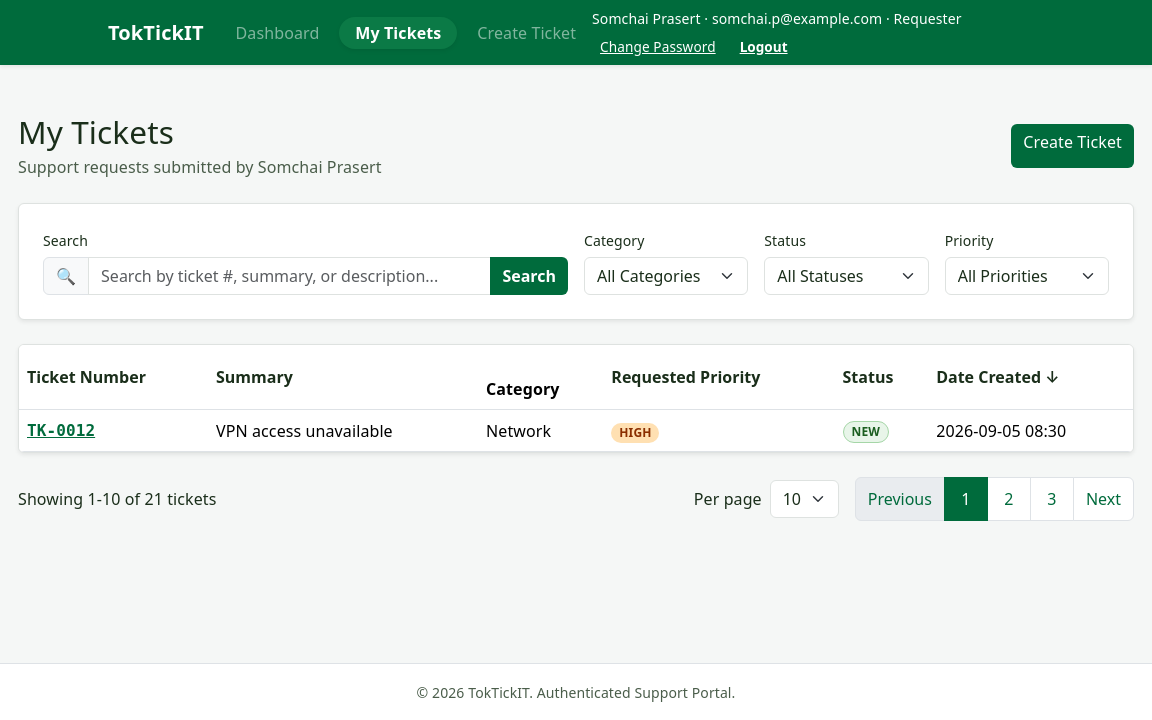
Test: My Tickets screen › moves to the last available page when the requested page disappears
Click the button "3" at (1052, 499), box [1030,477,1074,521]
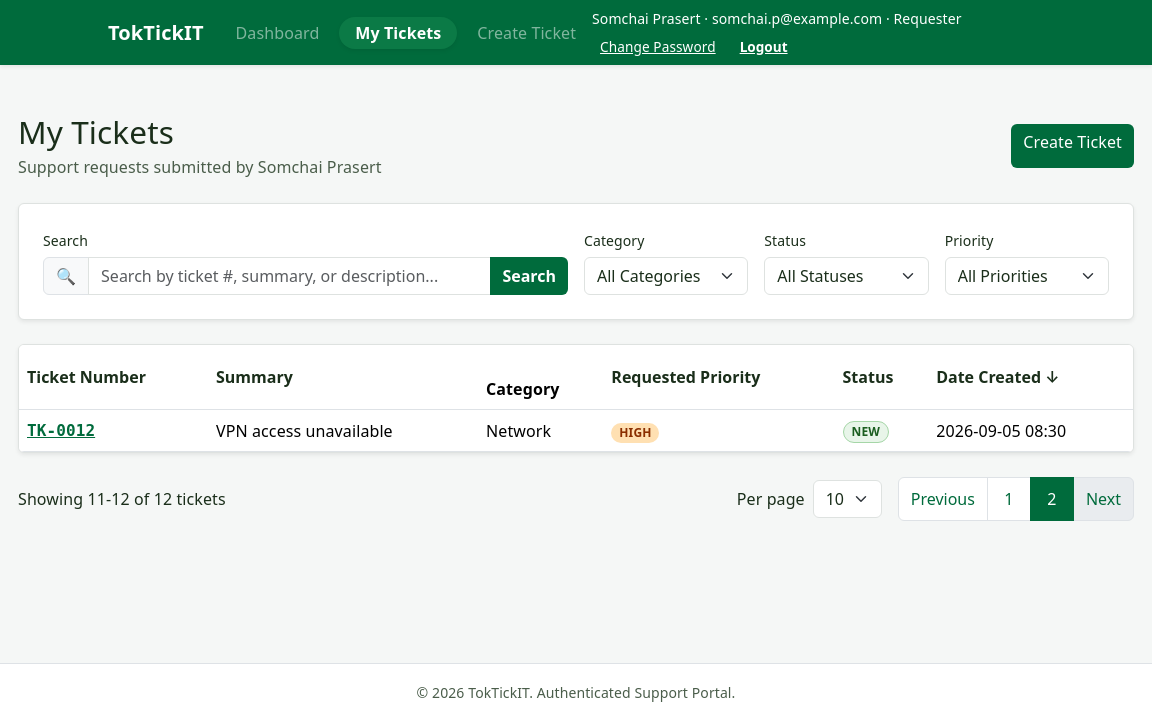
expect the text "Showing 11-12 of 12 tickets" is shown: met, box [18,487,226,511]
